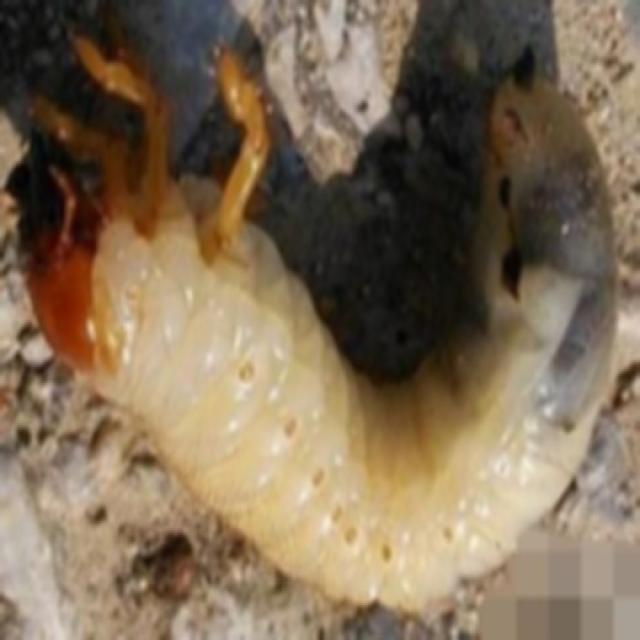grub: (31, 164, 626, 604)
